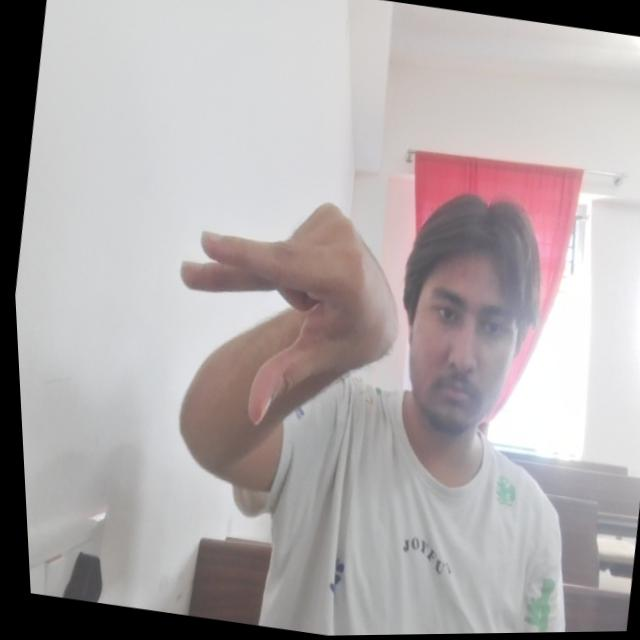no: (148, 180, 420, 456)
